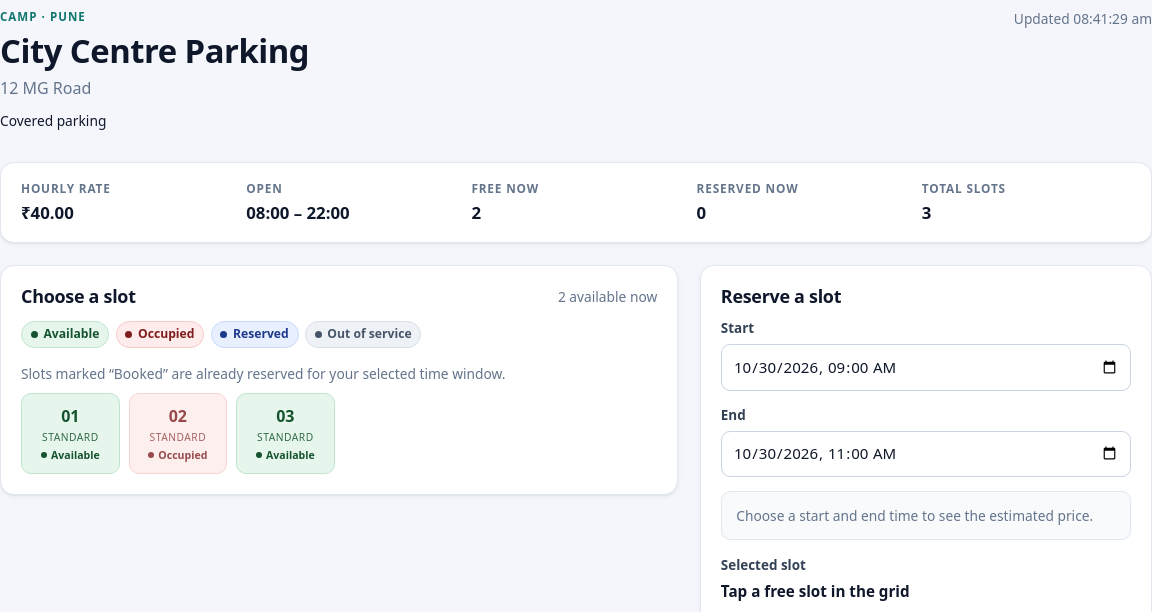
booking flow › shows the server message when a booking is rejected
The width and height of the screenshot is (1152, 612).
Click the button with aria-label "Slot 01": (70, 434) [21,394,120,474]
(page scrolled)
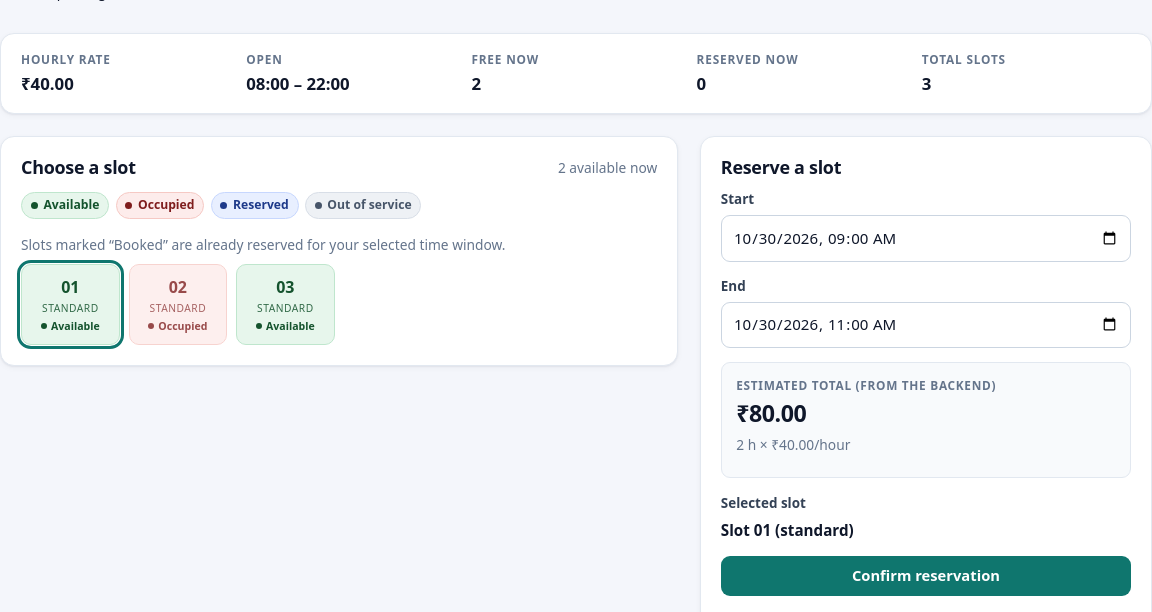
Check: the text "Estimated total (from the backend)" is shown, box [736,377,996,393]
Click the button "Confirm reservation": (926, 576) [721,556,1131,596]
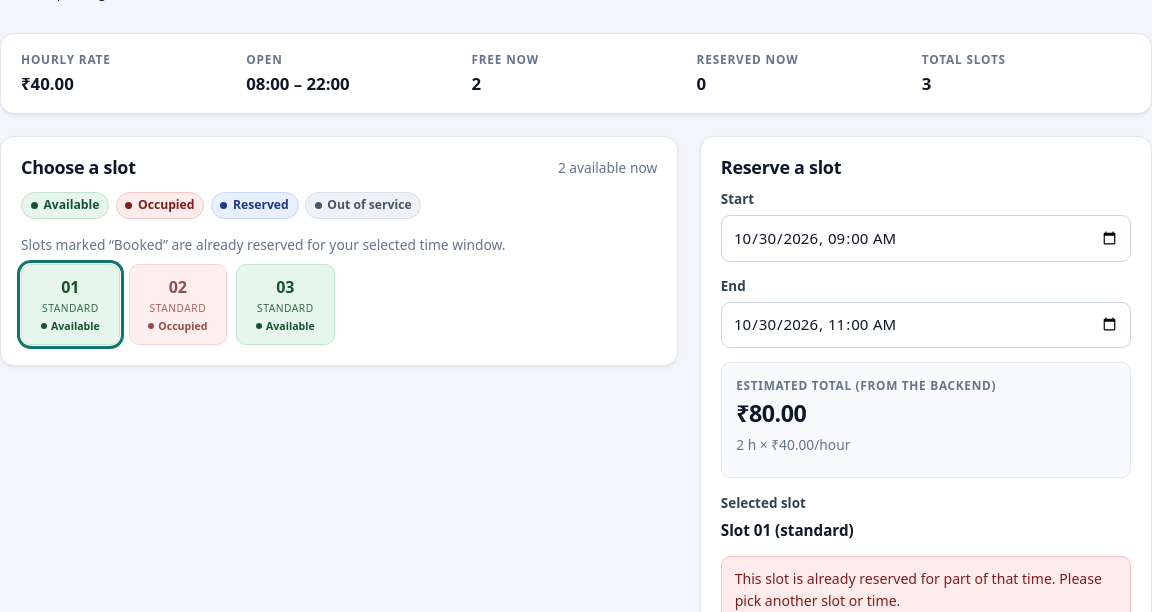
Check: the message shows "already reserved", box [735,569,1102,610]
